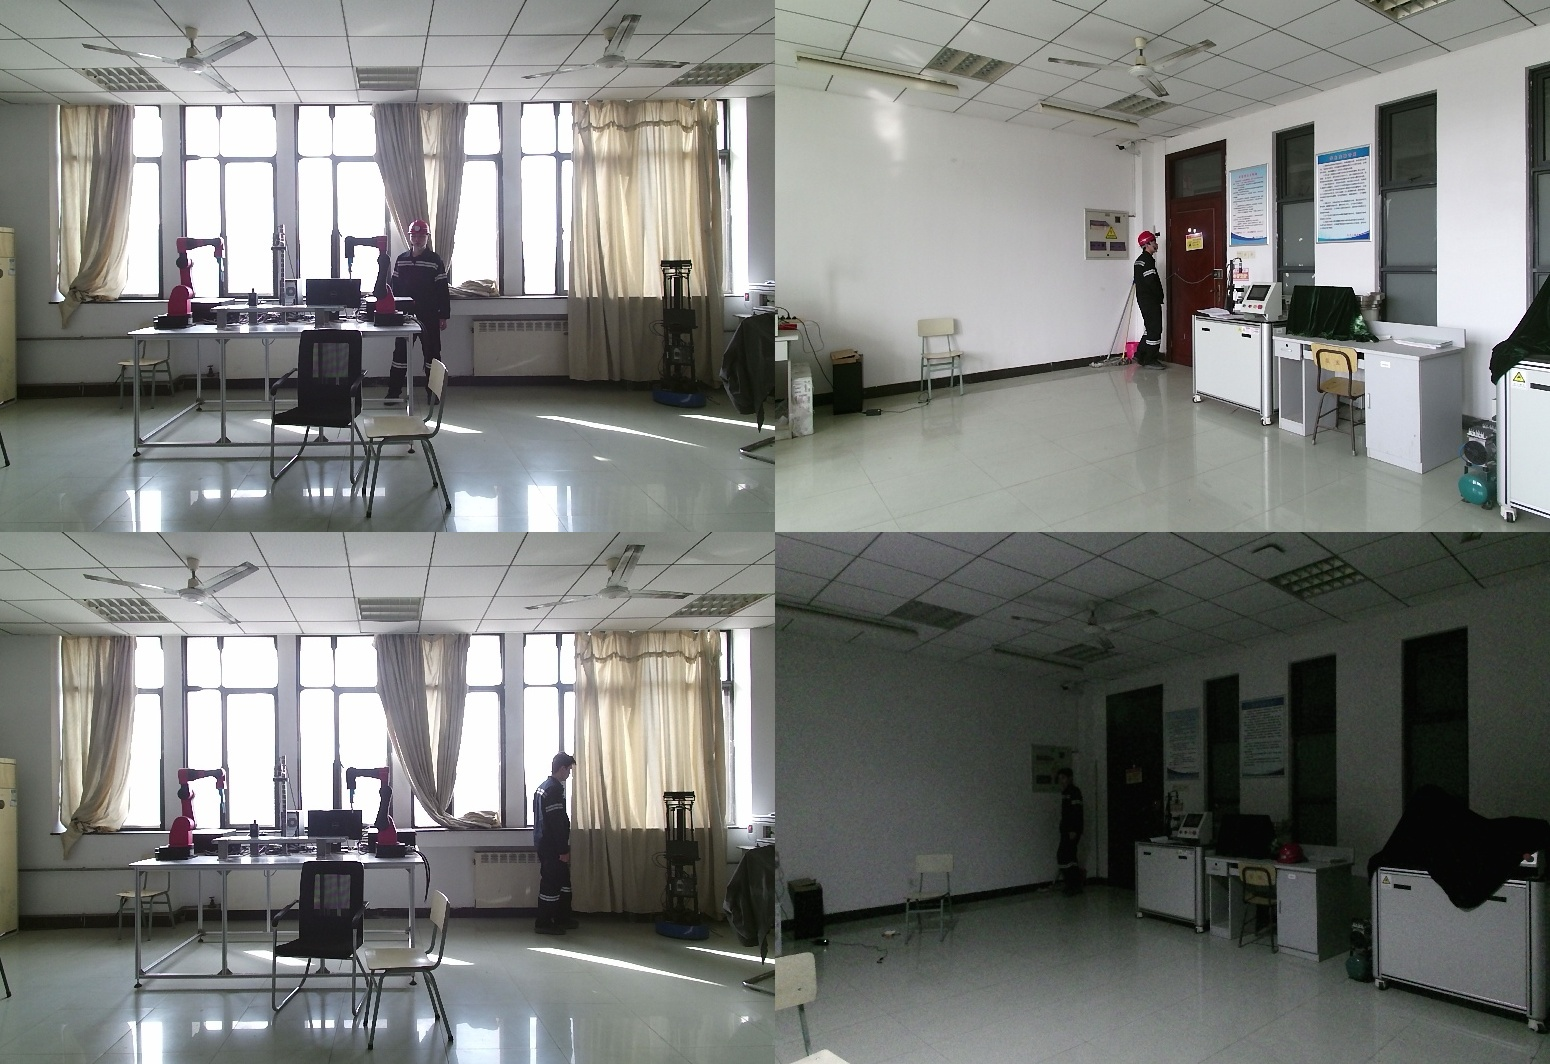person: (387, 220, 455, 420), (535, 758, 602, 941), (1130, 229, 1165, 372), (1049, 768, 1086, 901)
